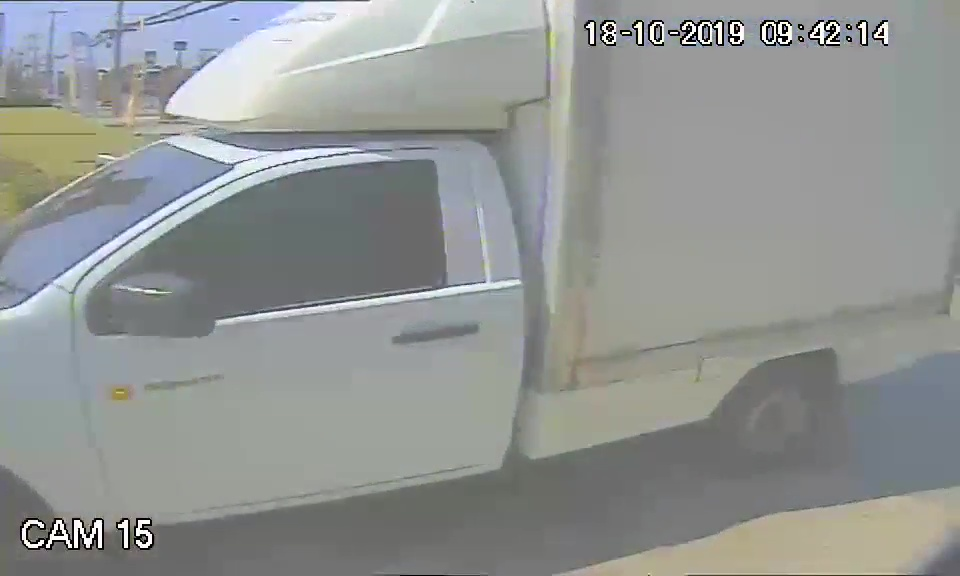pickup: (2, 122, 960, 515)
